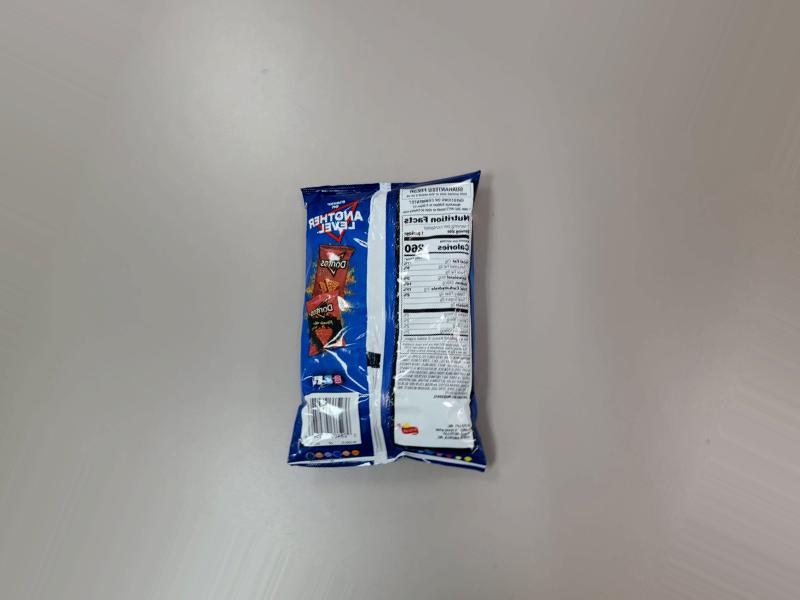doritos: (270, 171, 520, 482)
